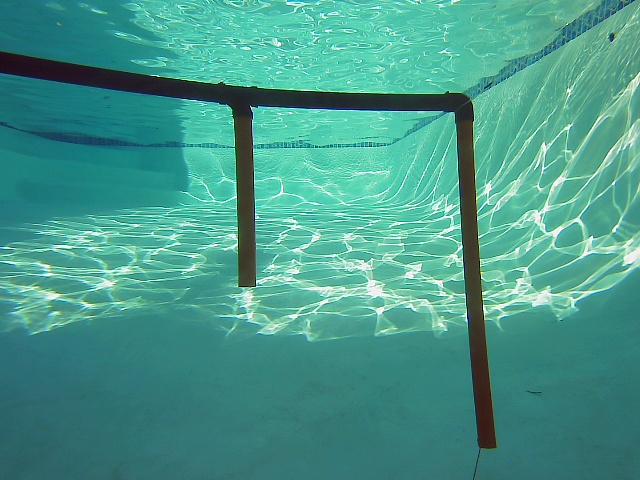Gate: (453, 118, 500, 453), (232, 107, 259, 293)
